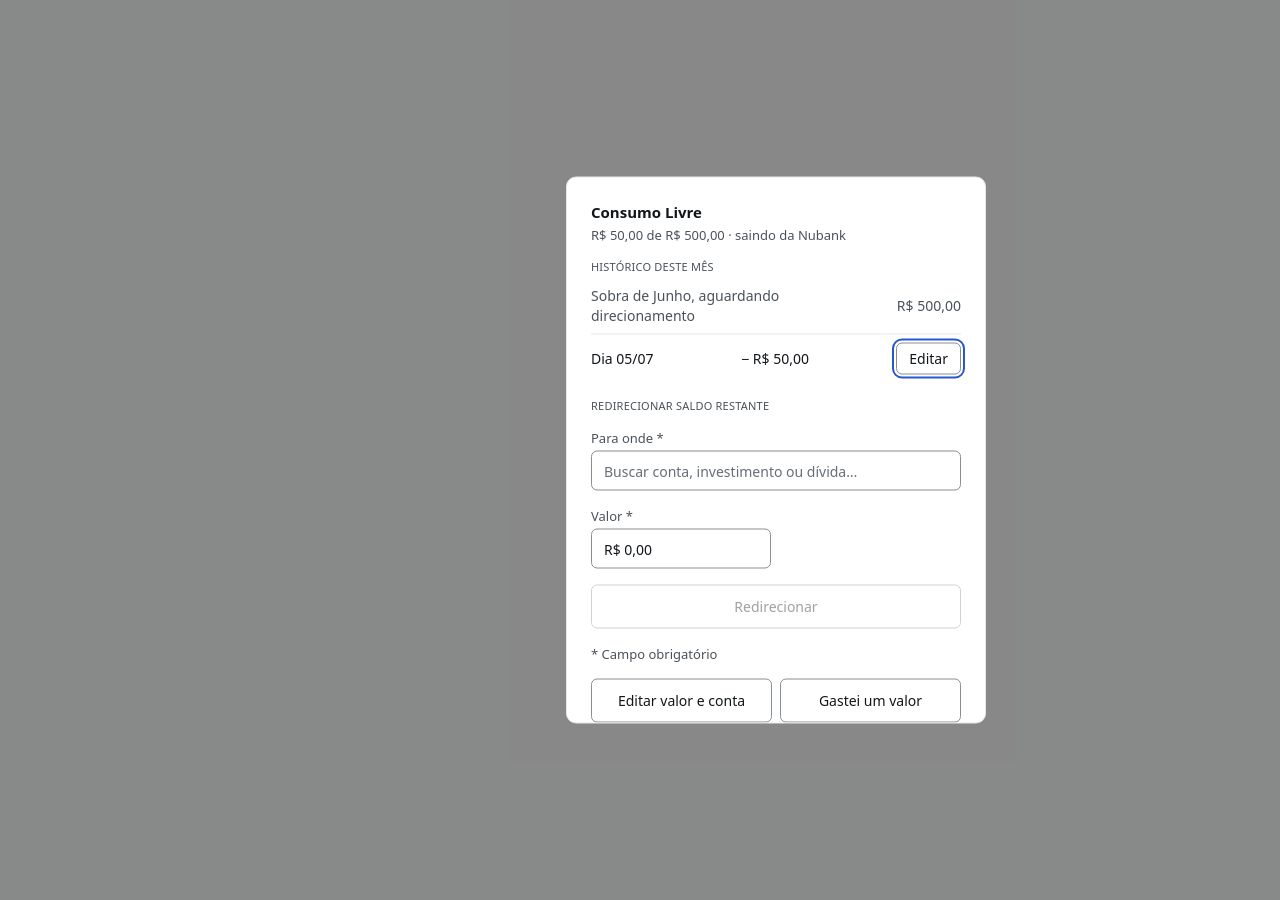
Test case: Detalhe do Consumo Livre — edição inline de um gasto (Figma 46:8, nós 46:26/46:28/46:33) › 46:33 — "Editar" abre o formulário com "Cancelar", que reverte sem alterar
Click the button "Editar" at (929, 358), box [896,342,961,374]
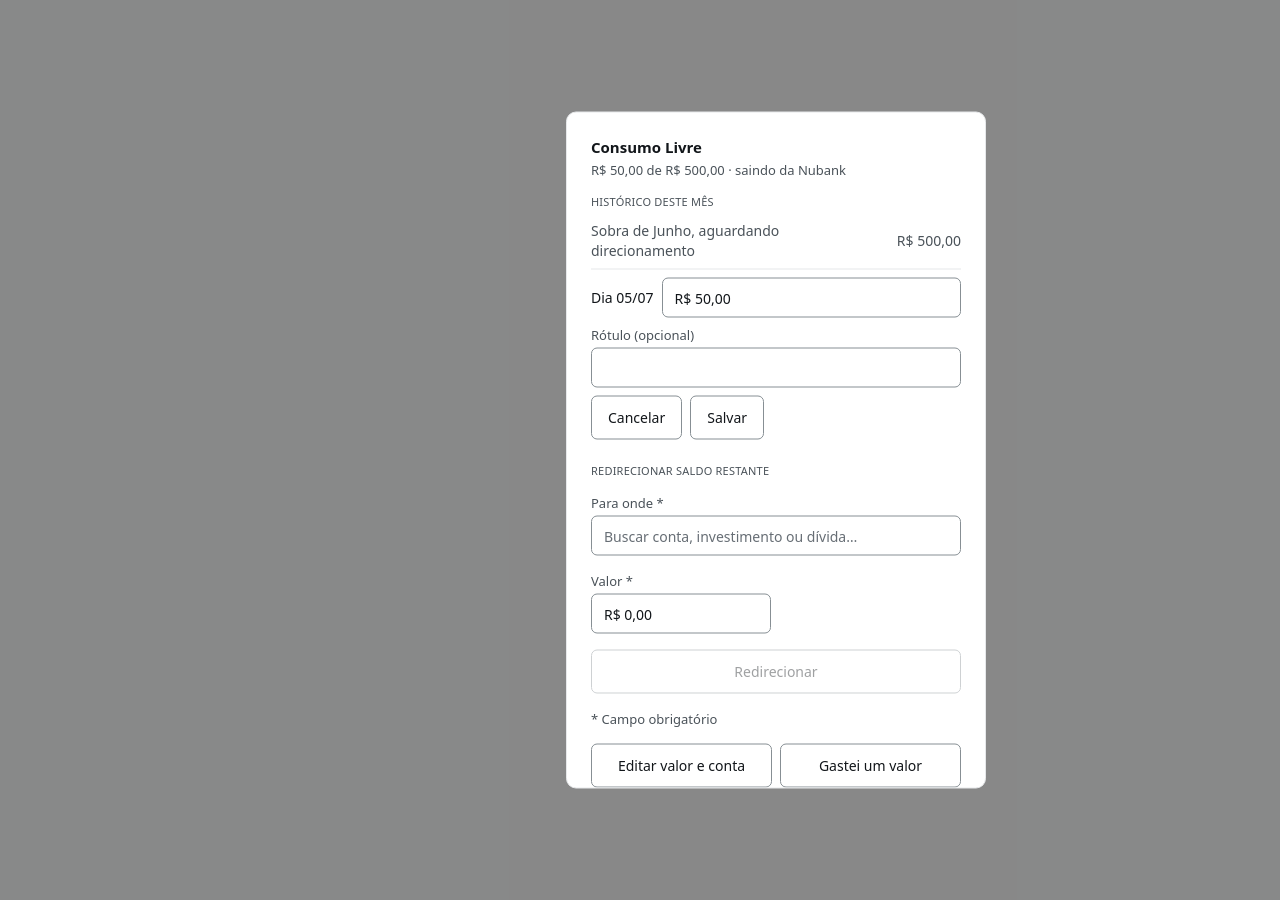
Check: the button "Cancelar" is shown
Click the button "Cancelar" at (637, 418), box [591,396,682,440]
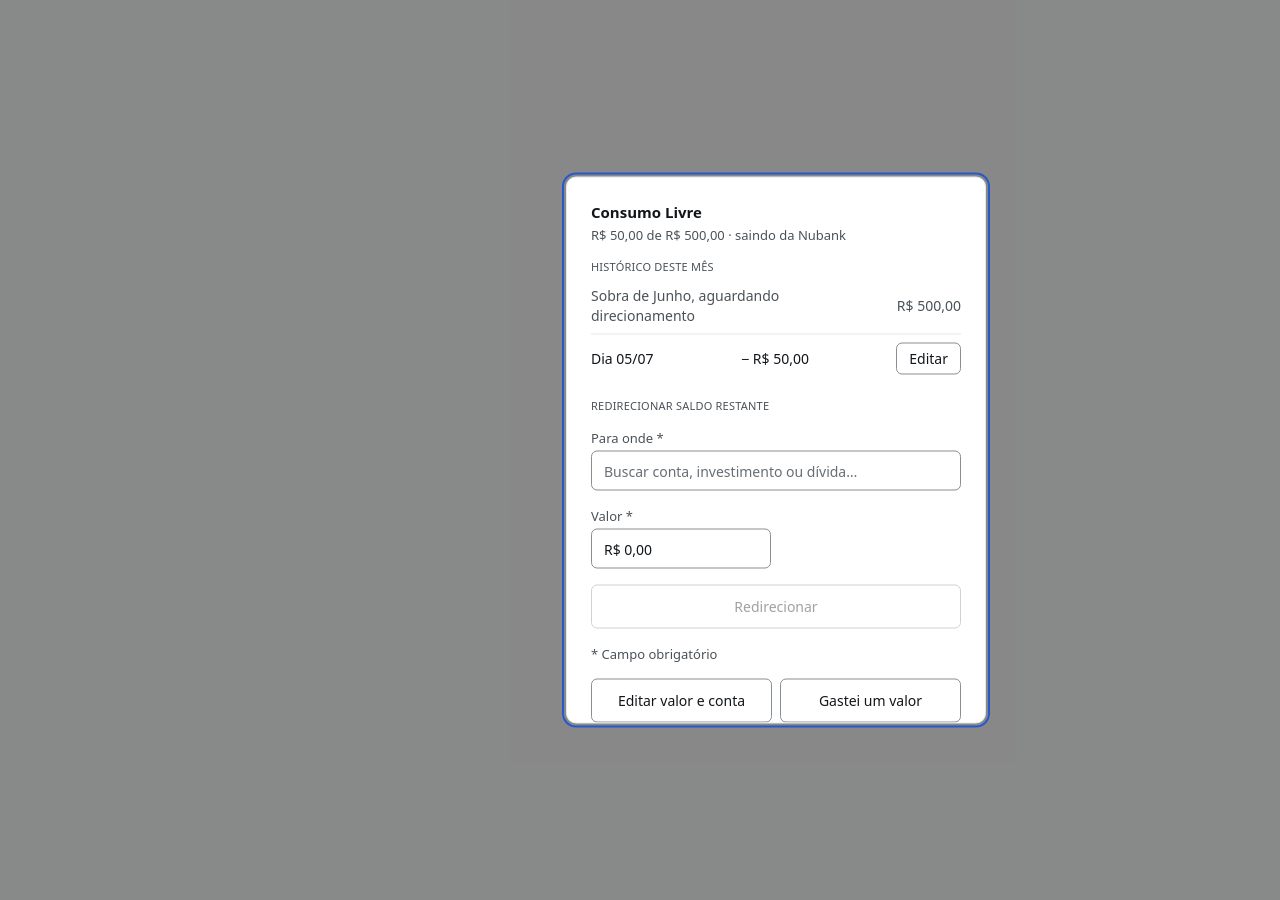
Check: the button "Editar" is shown, box [896,342,961,374]
Check: the button "Salvar" is gone
Check: the text "− R$ 50,00" is shown, box [741,348,809,368]
